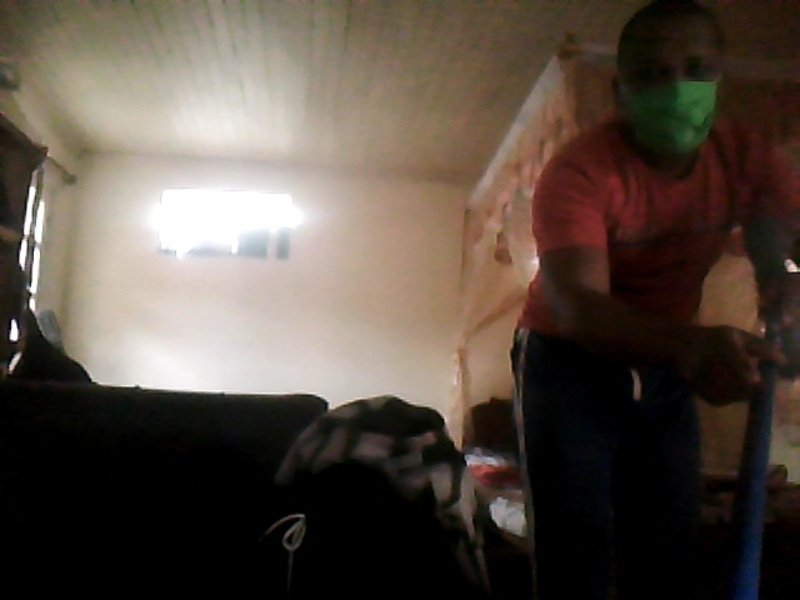ManaoArotava: (607, 10, 741, 179)
